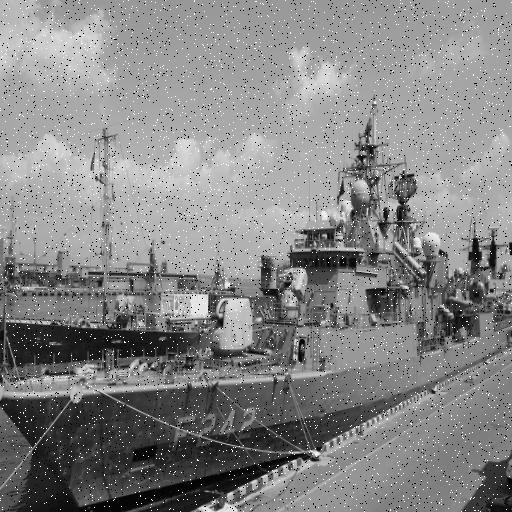Fragata: (1, 77, 512, 512)
